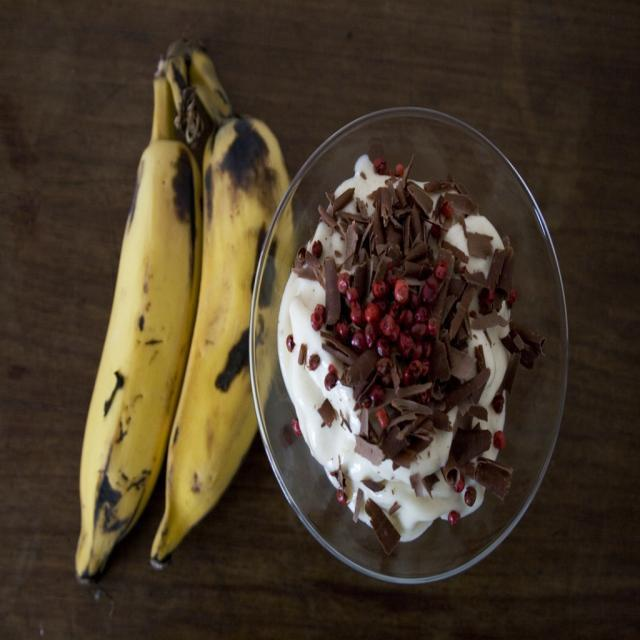Banana: (64, 43, 303, 583)
